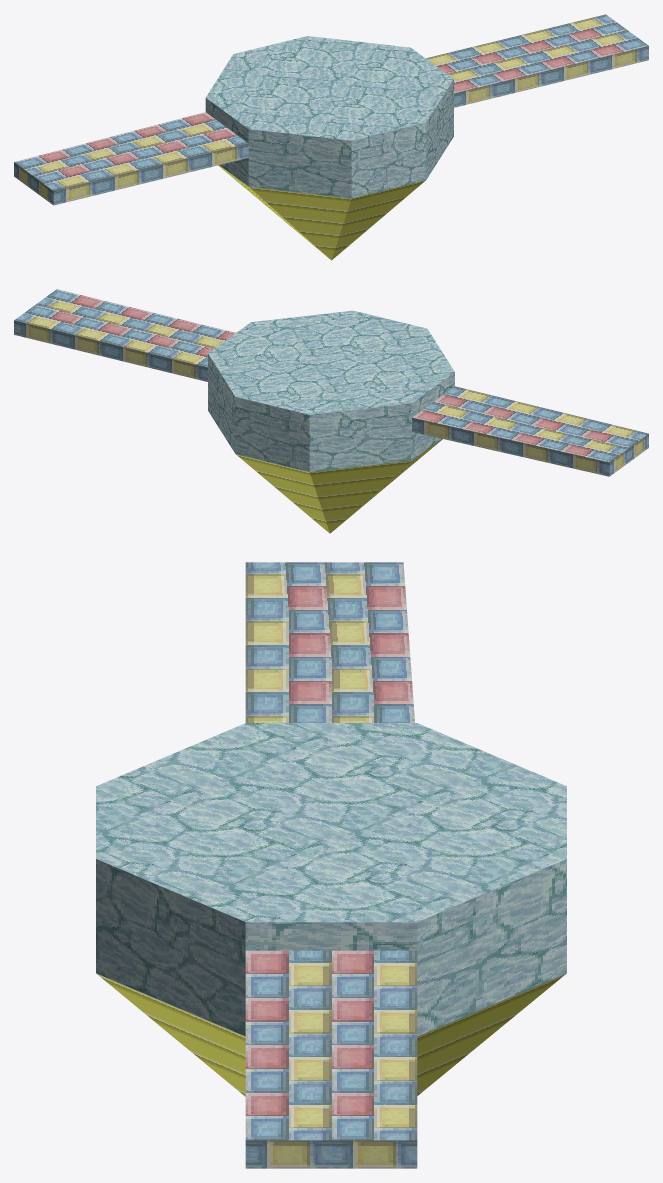
The model's file is rc_guruguru.obj.
The picture shows the model from 3 angles, top to bottom: view 1: azimuth 30°, elevation 25°; view 2: azimuth 150°, elevation 25°; view 3: azimuth 270°, elevation 25°; orthographic projection. The views are drawn at different scales.
Parts seen in each view (by area): view 1: world_root; view 2: world_root; view 3: world_root.
Boxes of the visible parts, x1,y1,x2,y2 form: world_root: (14,14,648,260); world_root: (14,289,648,533); world_root: (96,562,566,1168).
Size of the model in its own units: 271 by 75 by 93.34.
